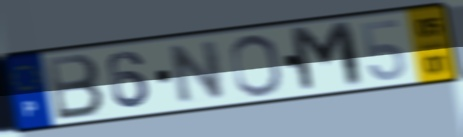5: (357, 16, 408, 83)
6: (105, 50, 153, 111)
B: (43, 52, 107, 123)
M: (286, 19, 368, 96)
N: (168, 37, 227, 107)
O: (228, 32, 286, 98)
